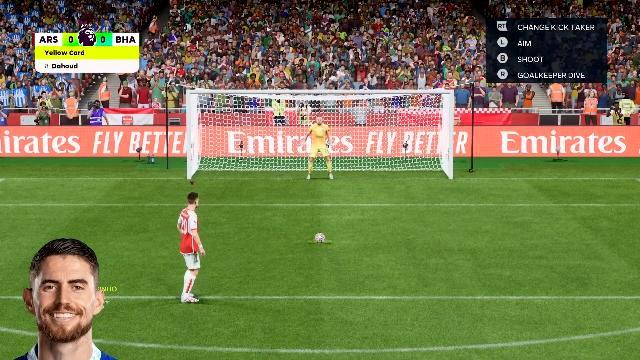bottom-left: (192, 142, 280, 178)
bottom-right: (367, 142, 447, 178)
center-down: (284, 142, 364, 180)
center-up: (284, 96, 362, 140)
circle: (308, 239, 334, 245)
football: (312, 234, 328, 242)
goalkeeper: (290, 117, 344, 180)
player: (176, 191, 214, 305)
top-left: (192, 94, 282, 140)
top-right: (364, 96, 448, 138)
